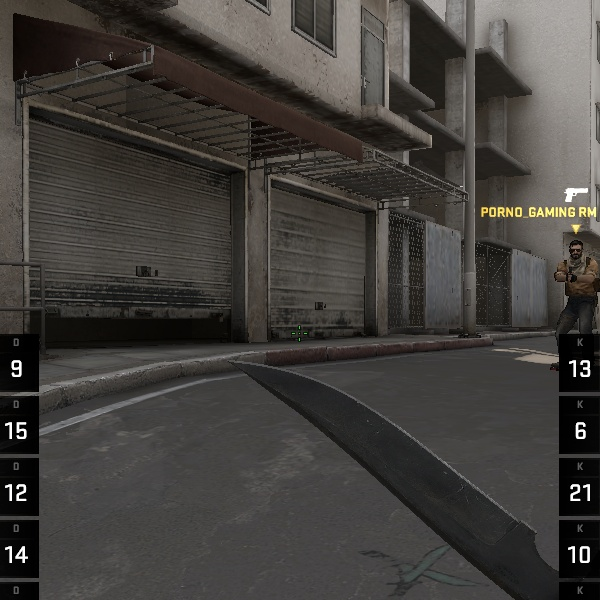t_body: (554, 239, 598, 336)
t_head: (568, 239, 585, 260)
